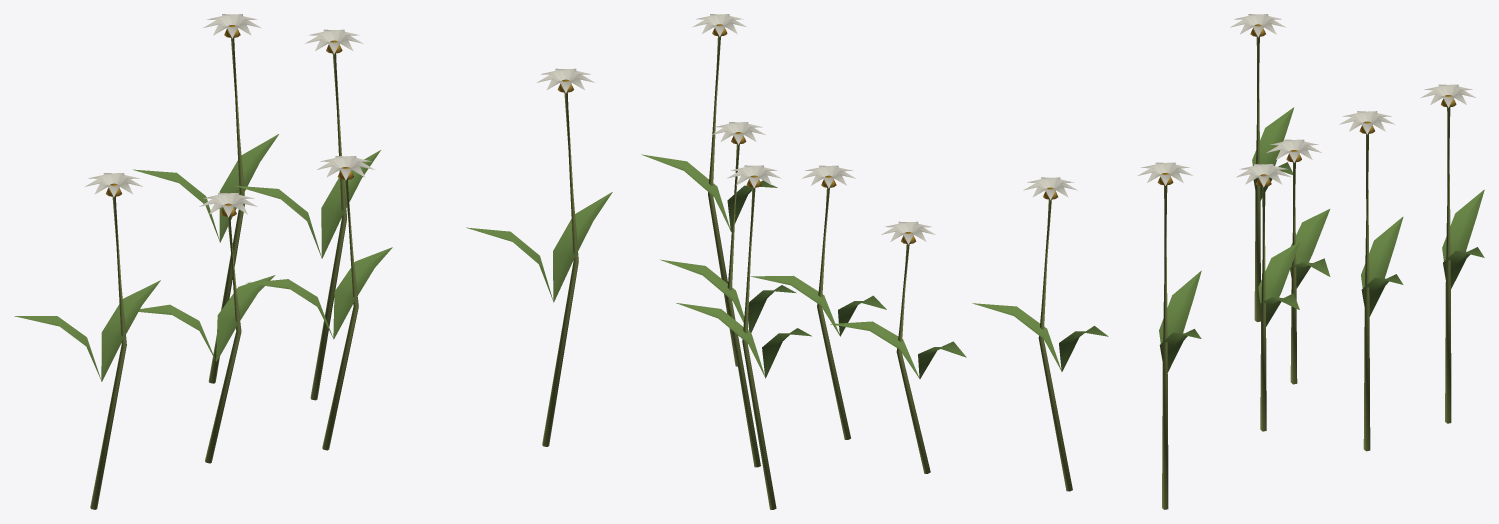
The model's file is flowers_0_lod1.glb.
3 views of the same model, side by side, from view 1: azimuth 30°, elevation 25°; view 2: azimuth 150°, elevation 25°; view 3: azimuth 270°, elevation 25° (orthographic). The views are drawn at different scales.
Parts seen in each view (by area): view 1: flowers_0_lod1; view 2: flowers_0_lod1; view 3: flowers_0_lod1.
Boxes of the visible parts, left/top/right/bottom form: flowers_0_lod1: left=14, top=14, right=612, bottom=509; flowers_0_lod1: left=641, top=14, right=1108, bottom=509; flowers_0_lod1: left=1137, top=14, right=1484, bottom=509.
Bounding box in the file's own units: 0.6752 × 0.4297 × 0.3871.
